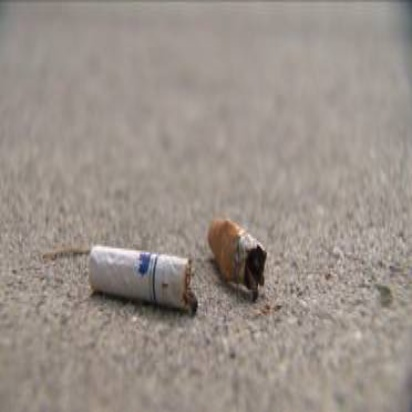cigarette: (83, 236, 203, 320), (205, 214, 272, 300)
